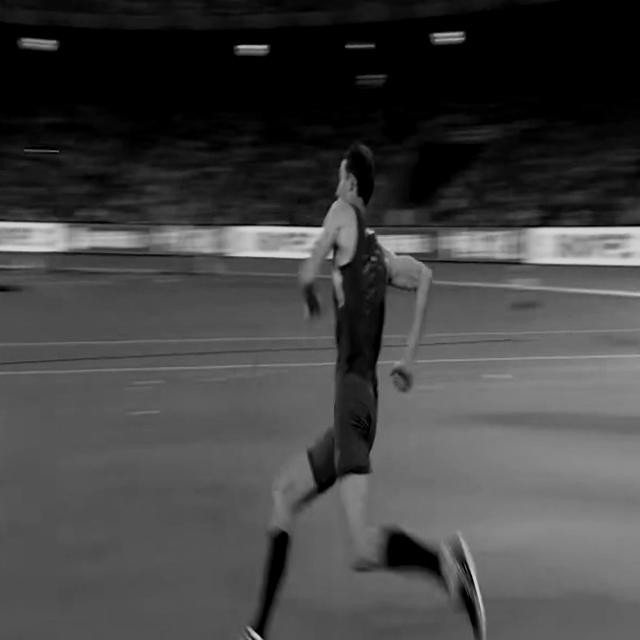run: (213, 140, 487, 640)
